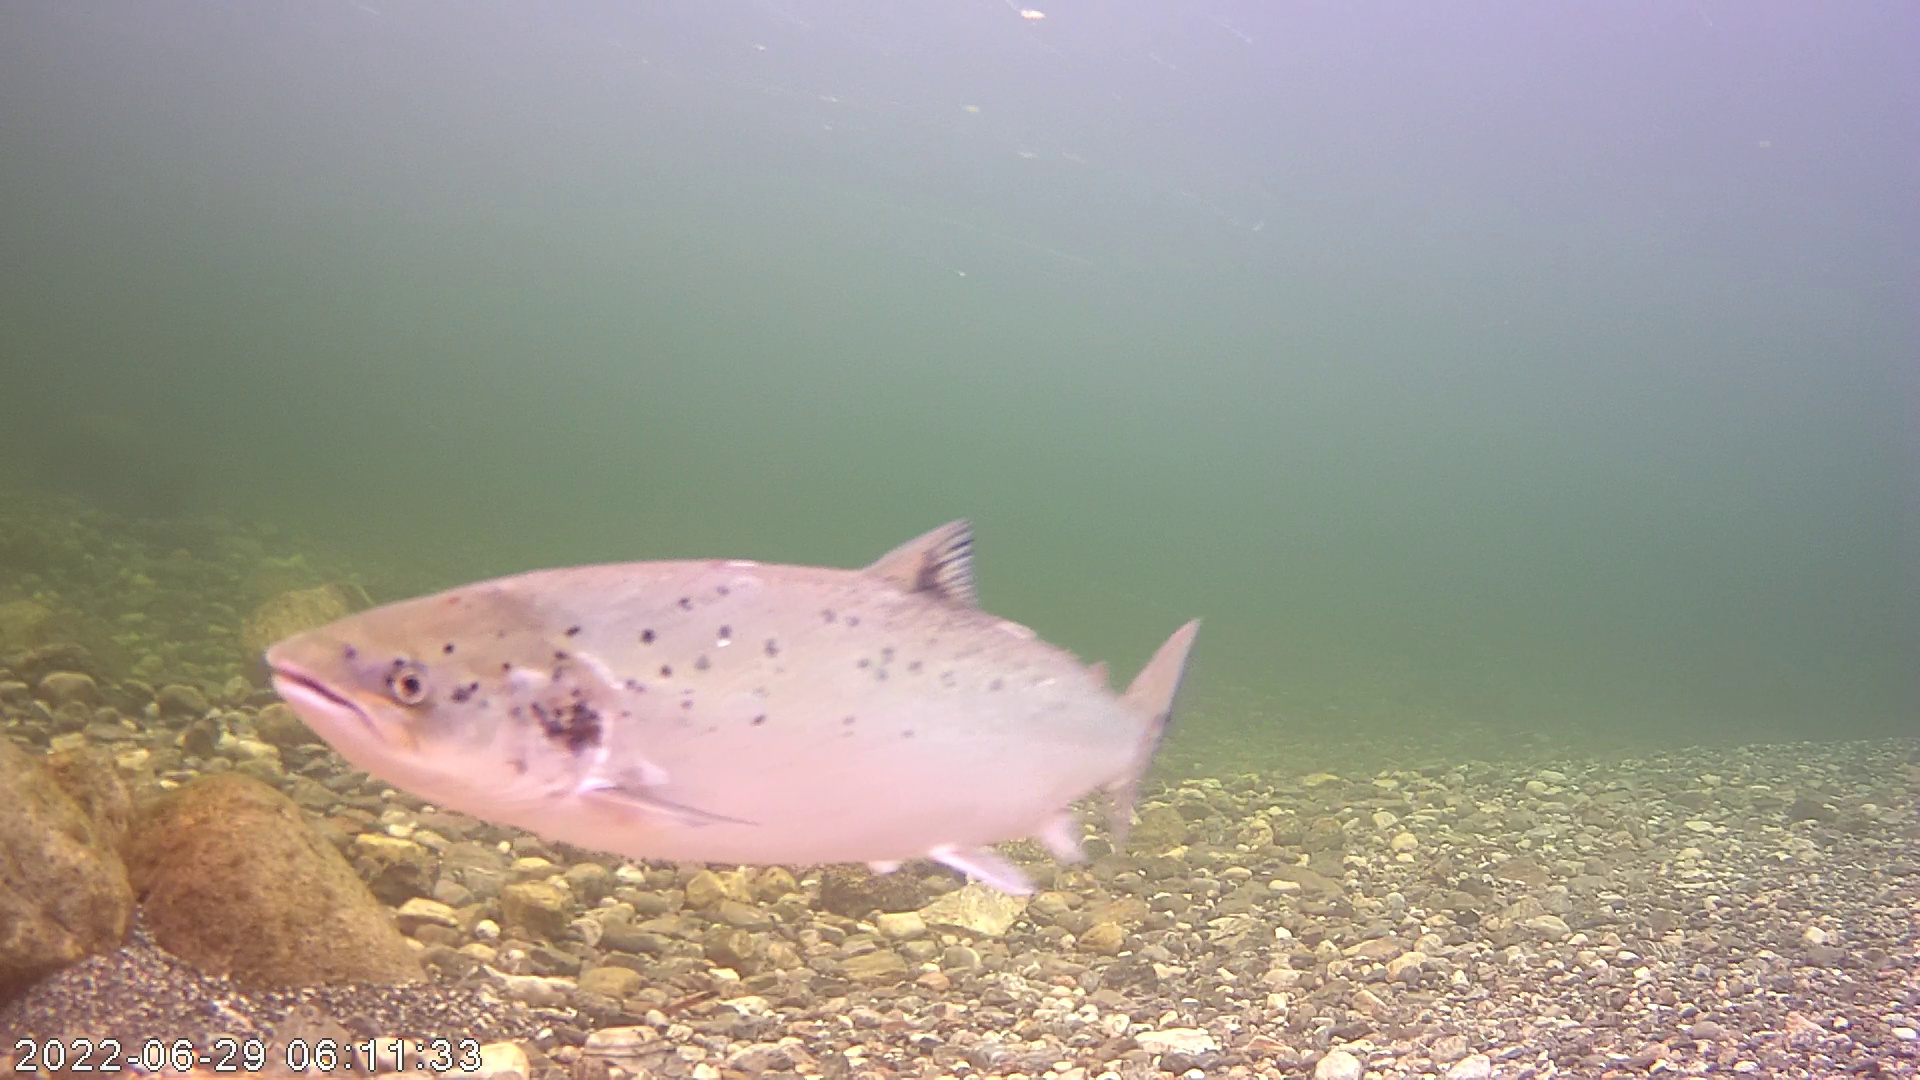salmon: (256, 425, 1204, 905)
